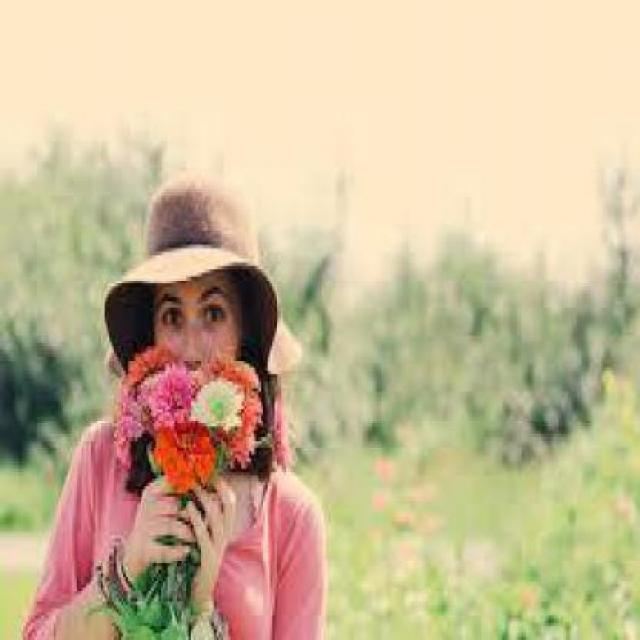flower: (147, 423, 224, 486), (131, 367, 211, 419), (188, 365, 243, 437)
